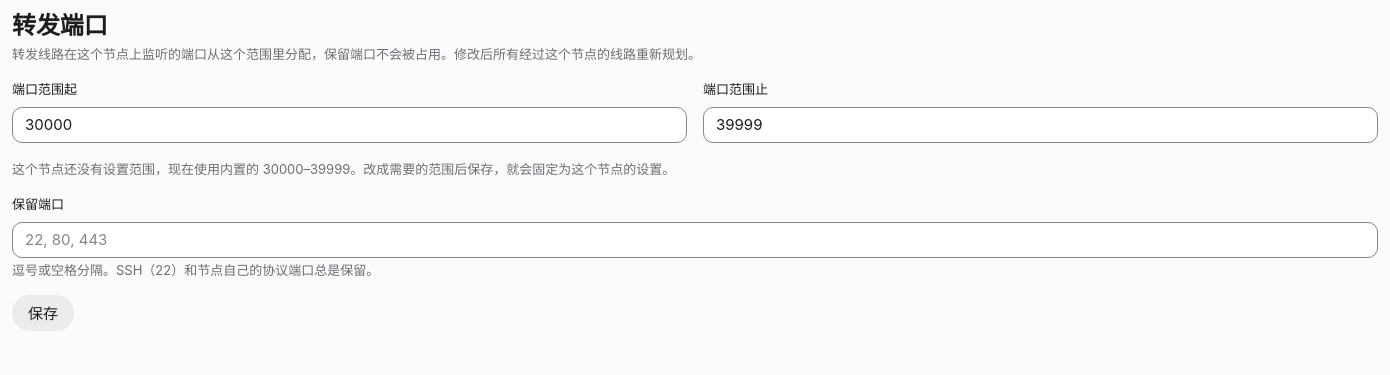
NodeForwardPortsSection › shows the range in force as values and saves a new one as the node's own
Expected: the number field labelled "端口范围止" holds "39999", top-left (704, 108), bottom-right (1377, 142)
Expected: the text with test id "node-forward-ports-source" shows "内置的 30000–39999", top-left (12, 161), bottom-right (675, 177)
Replace the text in the number field labelled "端口范围起" with "40000" at point(350, 125), box top-left (13, 108), bottom-right (686, 142)
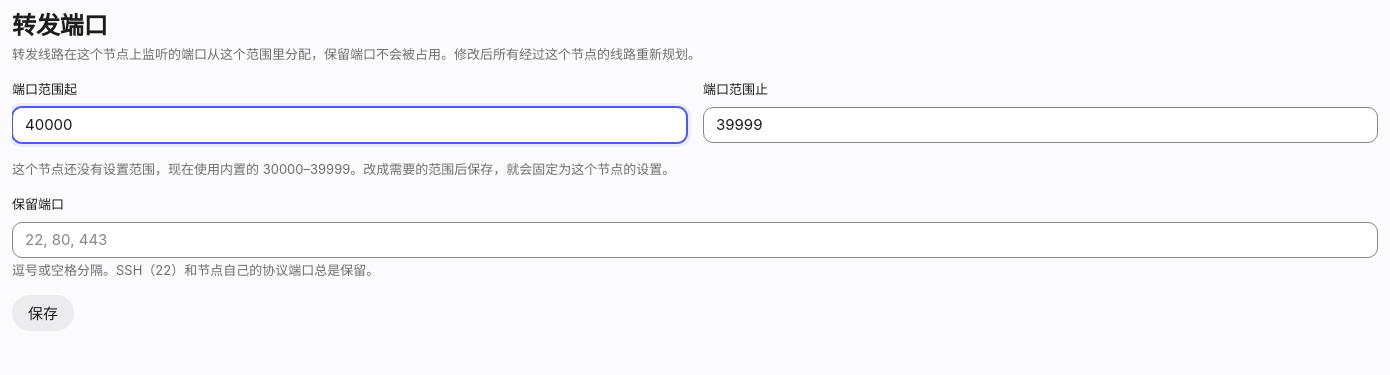
Replace the text in the number field labelled "端口范围止" with "40999" at point(1040, 125), box top-left (704, 108), bottom-right (1377, 142)
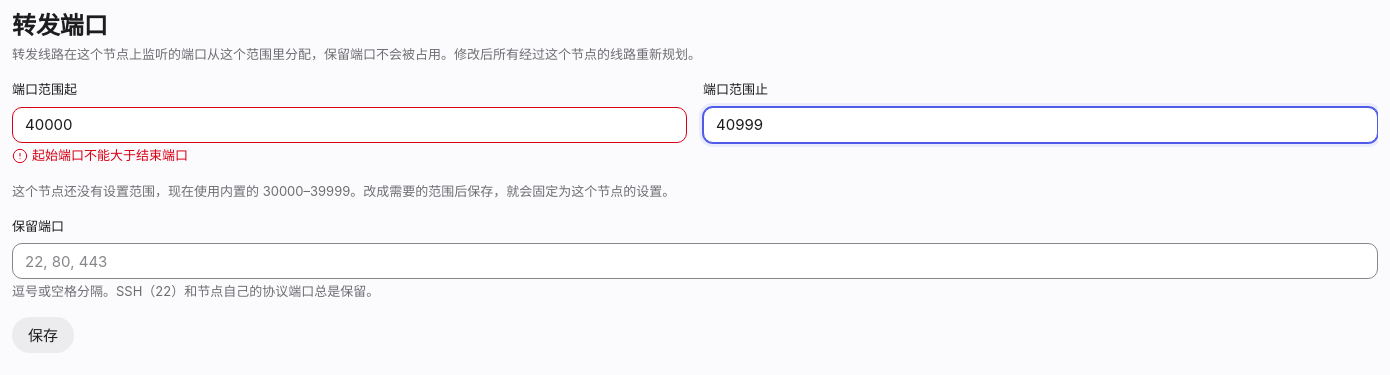
Click the button with test id "node-forward-ports-save".
click(43, 335)  # box top-left (12, 317), bottom-right (74, 353)
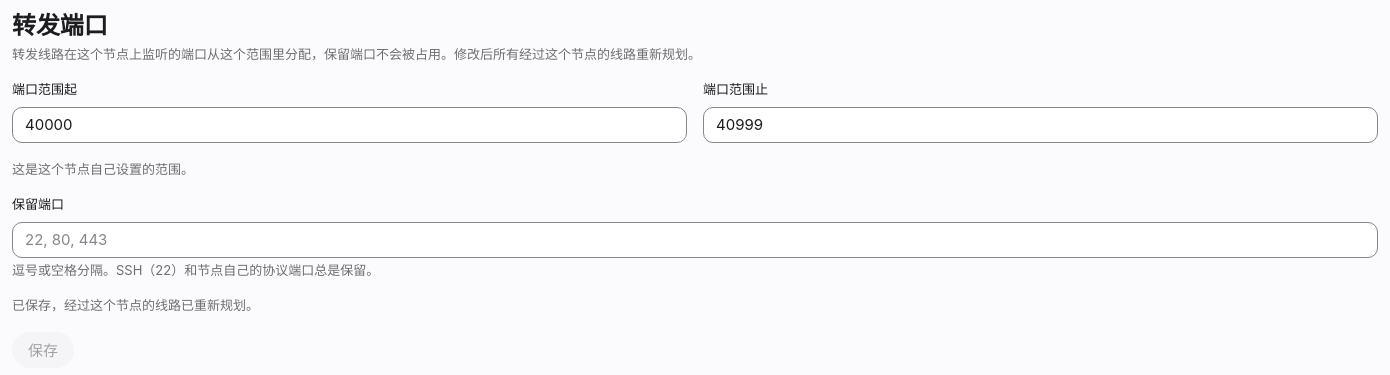
Expected: the text "已保存，经过这个节点的线路已重新规划。" is shown, top-left (12, 298), bottom-right (259, 314)
Expected: the text with test id "node-forward-ports-source" shows "这个节点自己设置的范围", top-left (12, 161), bottom-right (194, 177)
